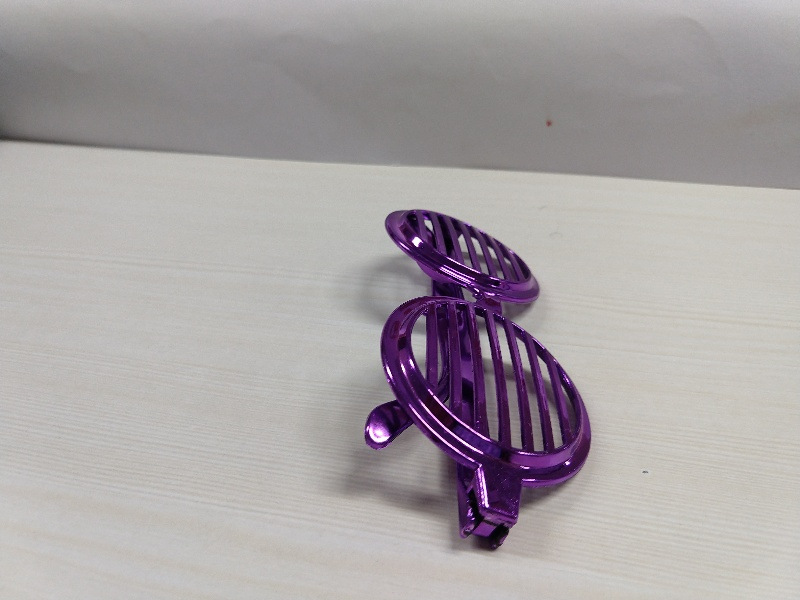shades: (361, 202, 593, 548)
